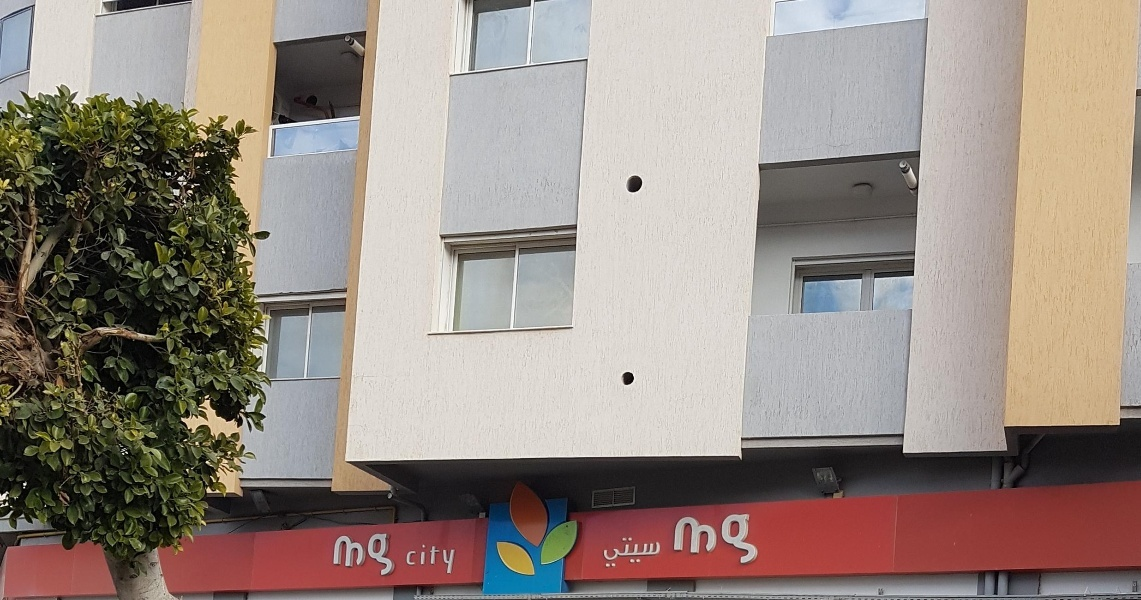text: (673, 511, 688, 568), (689, 511, 704, 568), (705, 511, 720, 568), (721, 511, 736, 568), (737, 511, 752, 568), (337, 532, 352, 578), (353, 532, 368, 578), (369, 532, 384, 578), (385, 532, 399, 578), (609, 534, 624, 571), (625, 534, 640, 571), (641, 534, 656, 571), (417, 542, 432, 576), (433, 542, 448, 576), (753, 511, 759, 568), (406, 542, 416, 576), (449, 542, 455, 576), (603, 534, 608, 571), (657, 534, 662, 571), (669, 511, 672, 568), (333, 532, 336, 578)
